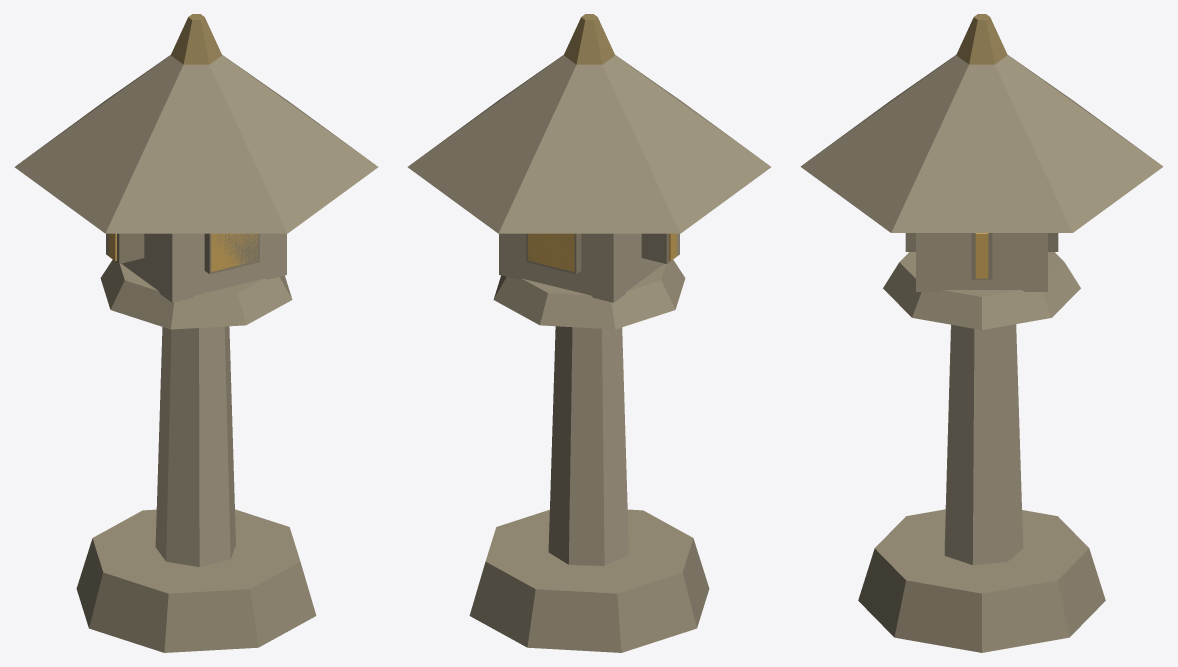
File: stone-lantern.glb
3 views of the same model, side by side, from view 1: azimuth 30°, elevation 25°; view 2: azimuth 150°, elevation 25°; view 3: azimuth 270°, elevation 25° (orthographic).
Visible parts, largest first — view 1: stone_lantern_body, flame; view 2: stone_lantern_body, flame; view 3: stone_lantern_body, flame.
Boxes of the visible parts, left/top/right/bottom form: stone_lantern_body: left=14, top=14, right=378, bottom=652; flame: left=109, top=233, right=257, bottom=271; stone_lantern_body: left=407, top=14, right=771, bottom=652; flame: left=528, top=233, right=676, bottom=271; stone_lantern_body: left=800, top=14, right=1163, bottom=652; flame: left=975, top=233, right=988, bottom=278.
Bounding box in the file's own units: 0.7621 × 1.56 × 0.88.
